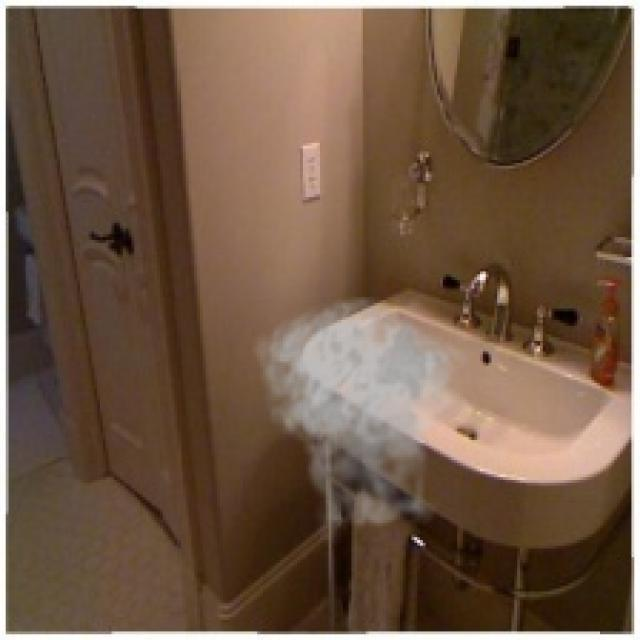Smoke: (252, 294, 474, 546)
